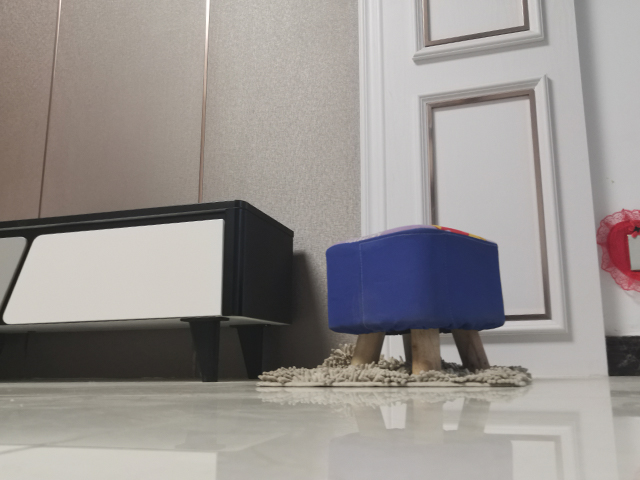cabinet: (1, 198, 297, 382)
carpet: (250, 341, 534, 391)
stool: (318, 221, 507, 373)
